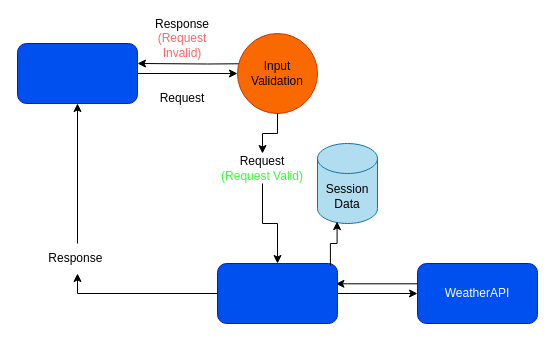
Image size: 555x341. Some labels were removed from this diagram. The shapes that lost their labels are listed below. From the top down, each one's box as (x1, y1, x2, y2) in pixels, then its label:
(16, 42, 138, 104): Cloudy Textual UI
(216, 262, 338, 324): WeatherAPI Session
